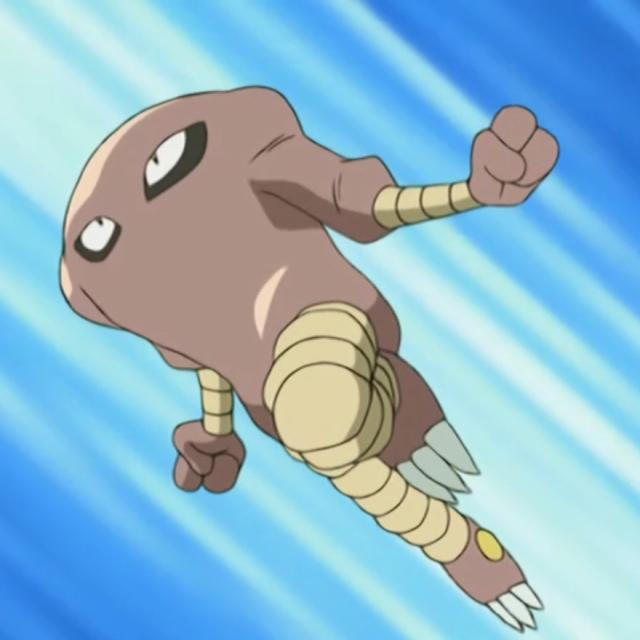Hitmonlee: (52, 83, 475, 491)
